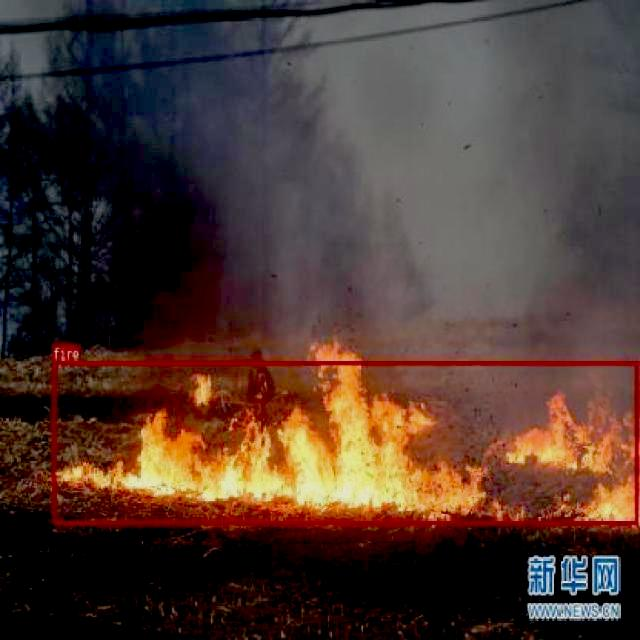fire: (52, 359, 638, 524)
